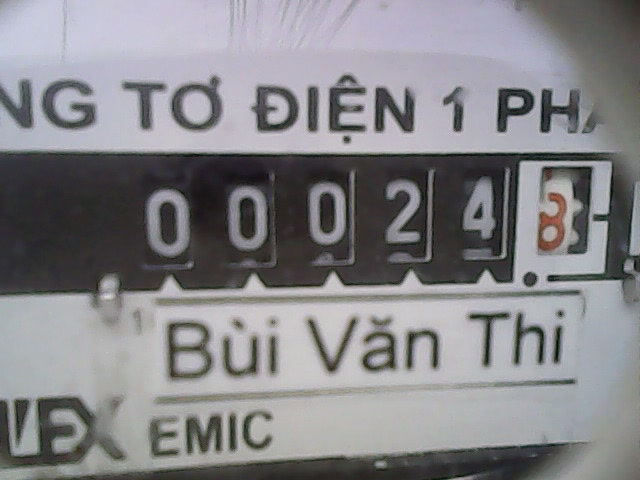phy_plate: (114, 147, 619, 285)
